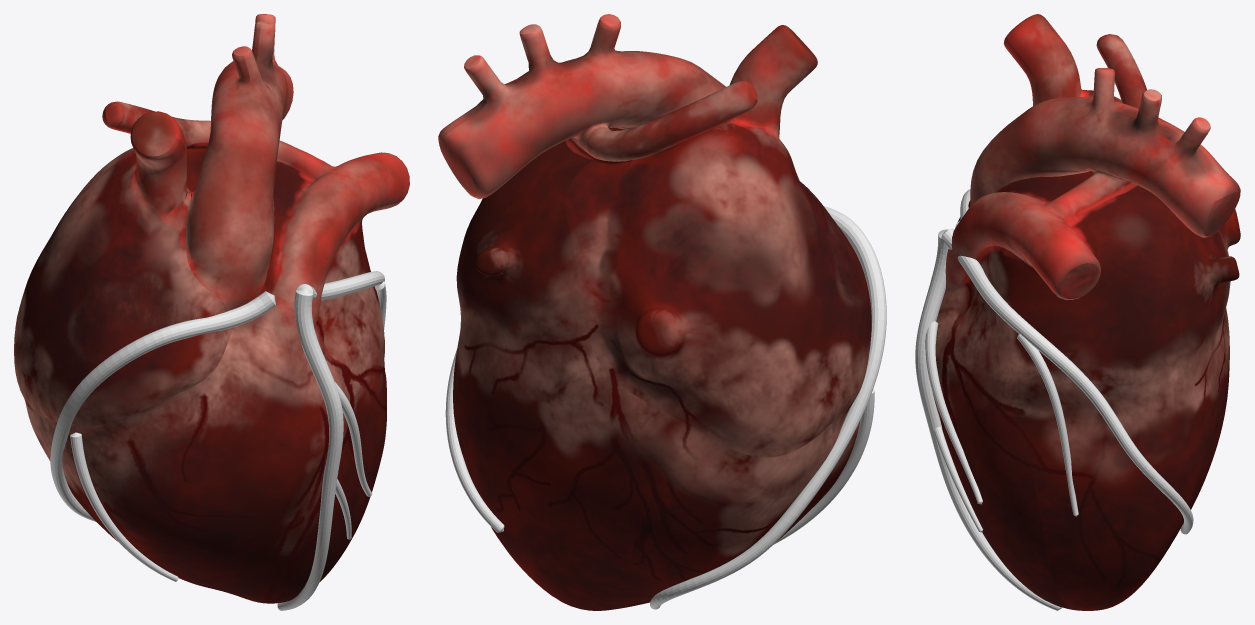
The model's file is heart.glb.
3 renders of one model, left to right at view 1: azimuth 30°, elevation 25°; view 2: azimuth 150°, elevation 25°; view 3: azimuth 270°, elevation 25°, orthographic. The views are drawn at different scales.
Visible parts, largest first — view 1: Heart_Body, RCA, LAD, LCX; view 2: Heart_Body, RCA, LCX; view 3: Heart_Body, LAD, LCX.
Boxes of the visible parts, bbox=[...] form: Heart_Body: bbox=[14, 14, 409, 603]; RCA: bbox=[50, 291, 276, 581]; LAD: bbox=[277, 289, 372, 610]; LCX: bbox=[297, 271, 386, 329]; Heart_Body: bbox=[438, 14, 871, 610]; RCA: bbox=[650, 206, 886, 609]; LCX: bbox=[445, 350, 504, 532]; Heart_Body: bbox=[931, 14, 1240, 610]; LAD: bbox=[915, 229, 1062, 610]; LCX: bbox=[941, 228, 1193, 534].
Bounding box in the file's own units: 3.83 × 5.66 × 3.12.
Materials: 1 (1 with a texture image).
